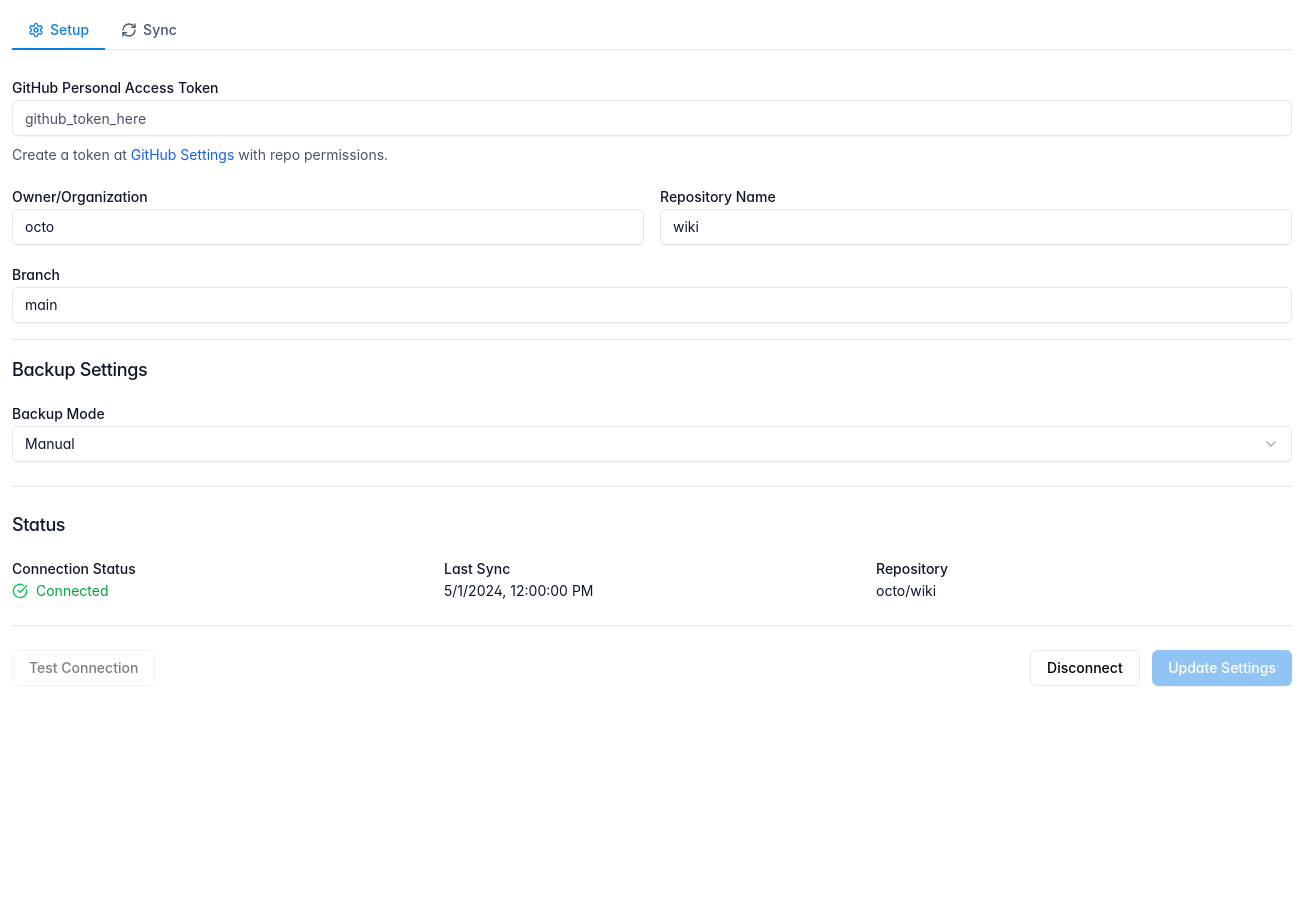
Test: GitHubSettingsSection › when connected › disconnects and returns to the setup tab
The image size is (1304, 912).
Step 1. Click the tab with test id "github-sync-tab" → point(149, 31), box [105, 12, 193, 50]
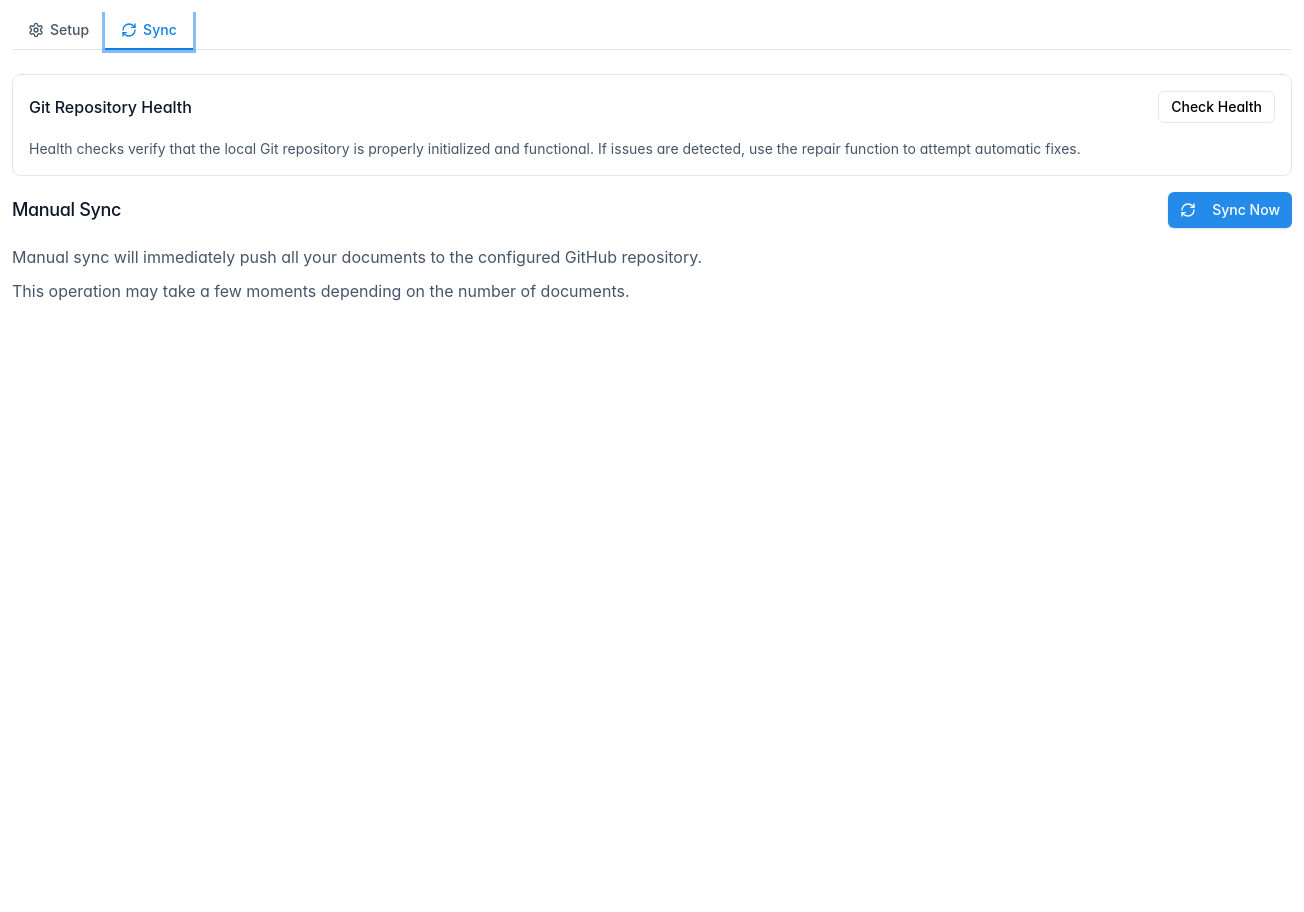
Step 2. Click the tab with test id "github-setup-tab" → point(59, 31), box [12, 12, 105, 50]
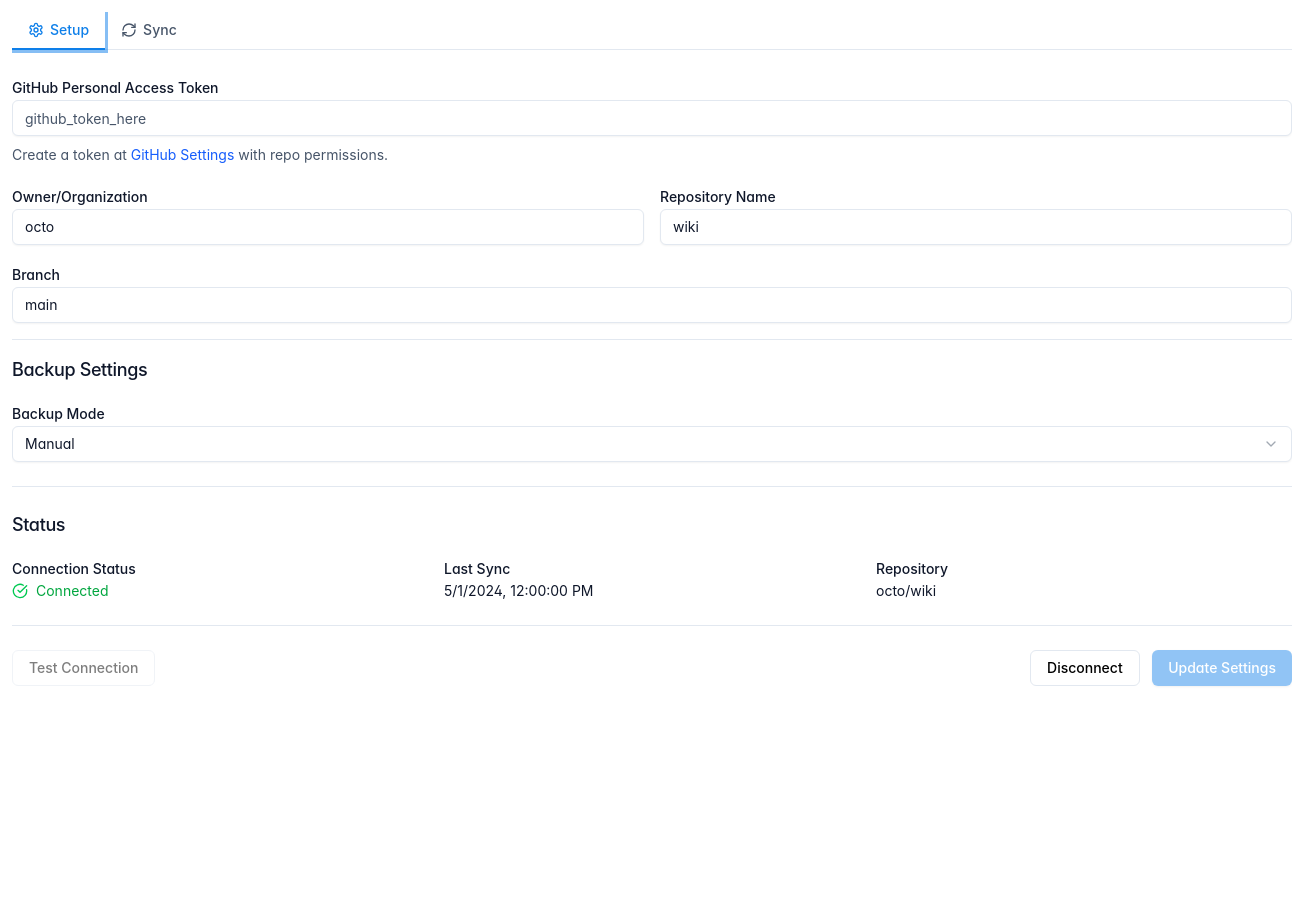
Step 3. Click the button with test id "github-disconnect-button" → point(1085, 668), box [1030, 650, 1140, 686]
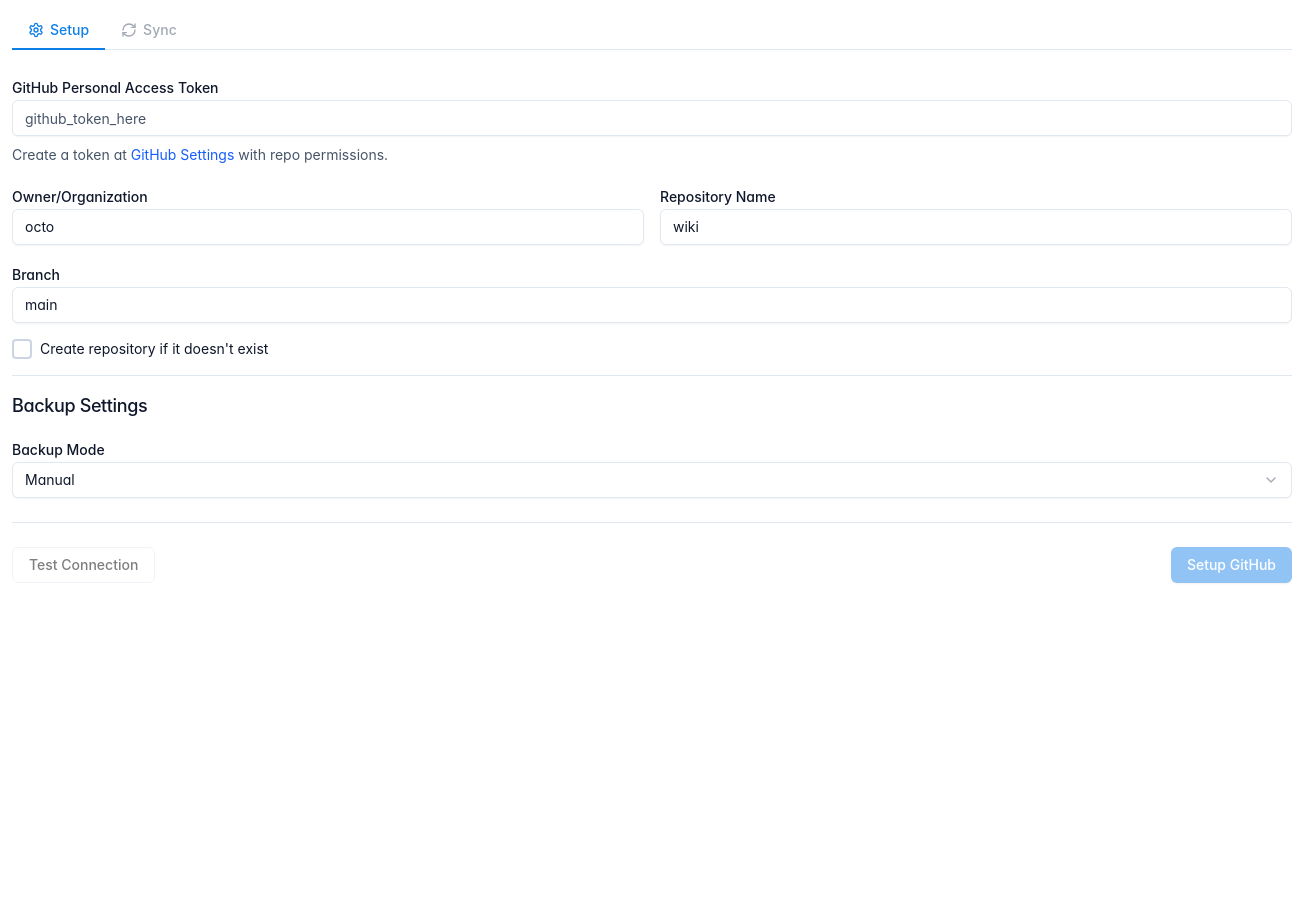
Now the tab with test id "github-sync-tab" is disabled, box [105, 12, 193, 50]
Now the button with test id "github-setup-button" reads "Setup GitHub", box [1171, 547, 1292, 583]
